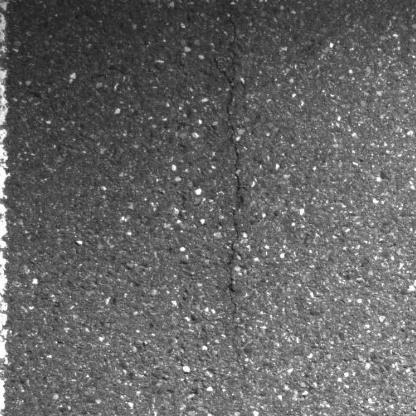Cracks: (210, 6, 248, 366)
